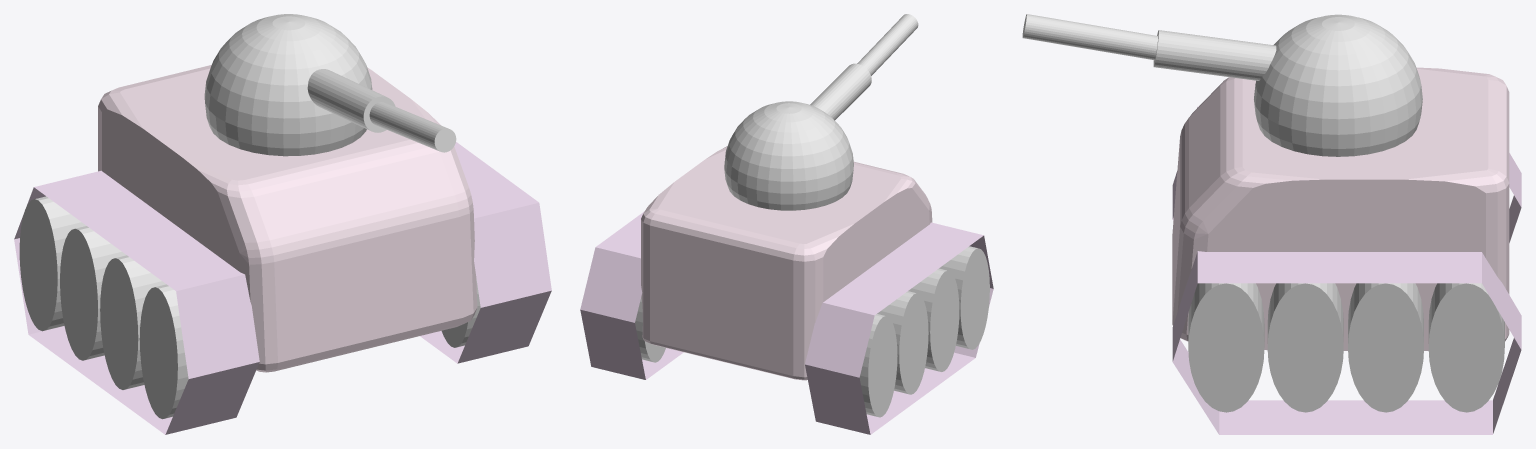
File: PlayerTank.fbx
3 views of the same model, side by side, from view 1: azimuth 30°, elevation 25°; view 2: azimuth 150°, elevation 25°; view 3: azimuth 270°, elevation 25° (orthographic). The views are drawn at different scales.
Visible parts, largest first — view 1: 立方体, 平面.001, 円柱.009, 球, 円柱, 円柱.001; view 2: 立方体, 平面.001, 円柱.009, 球, 円柱, 円柱.001; view 3: 立方体, 円柱.009, 平面.001, 球, 円柱, 円柱.001.
Boxes of the visible parts, x1,y1,x2,y2 form: 立方体: (98,65,477,372); 平面.001: (14,142,551,434); 円柱.009: (19,196,480,419); 球: (204,14,372,156); 円柱: (307,69,395,132); 円柱.001: (369,102,456,152); 立方体: (641,146,932,380); 平面.001: (580,211,993,434); 円柱.009: (635,246,989,417); 球: (724,101,853,210); 円柱: (810,63,871,120); 円柱.001: (857,14,918,75); 立方体: (1172,67,1509,350); 円柱.009: (1188,283,1504,412); 平面.001: (1172,106,1521,434); 球: (1254,14,1422,156); 円柱: (1153,30,1276,80); 円柱.001: (1022,14,1157,60).
Bounding box in the file's own units: 300 × 260 × 354.
